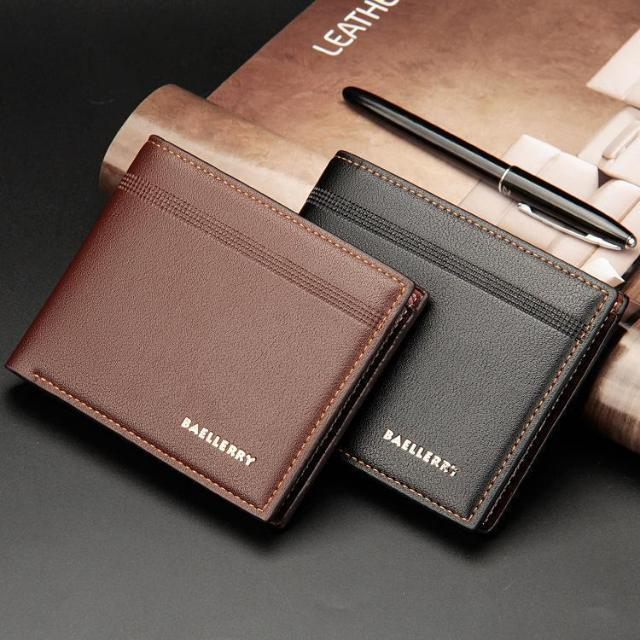wallet: (8, 129, 426, 537), (300, 145, 628, 539)
